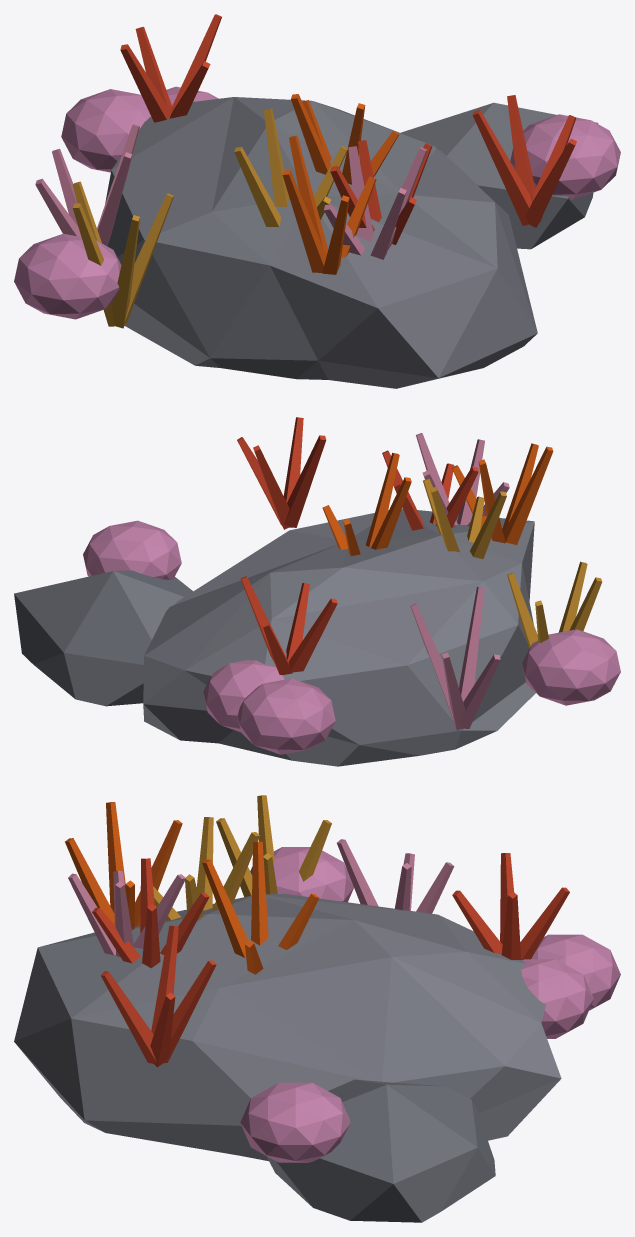
Rendered from lair-reef.glb.
3 renders of one model, top to bottom at view 1: azimuth 30°, elevation 25°; view 2: azimuth 150°, elevation 25°; view 3: azimuth 270°, elevation 25°, orthographic. The views are drawn at different scales.
Parts seen in each view (by area): view 1: lair-reef; view 2: lair-reef; view 3: lair-reef.
Boxes of the visible parts, left/top/right/bottom form: lair-reef: left=14, top=14, right=620, bottom=388; lair-reef: left=14, top=417, right=620, bottom=766; lair-reef: left=14, top=795, right=620, bottom=1222.
Size of the model in its own units: 4.45 by 1.5 by 3.83.
